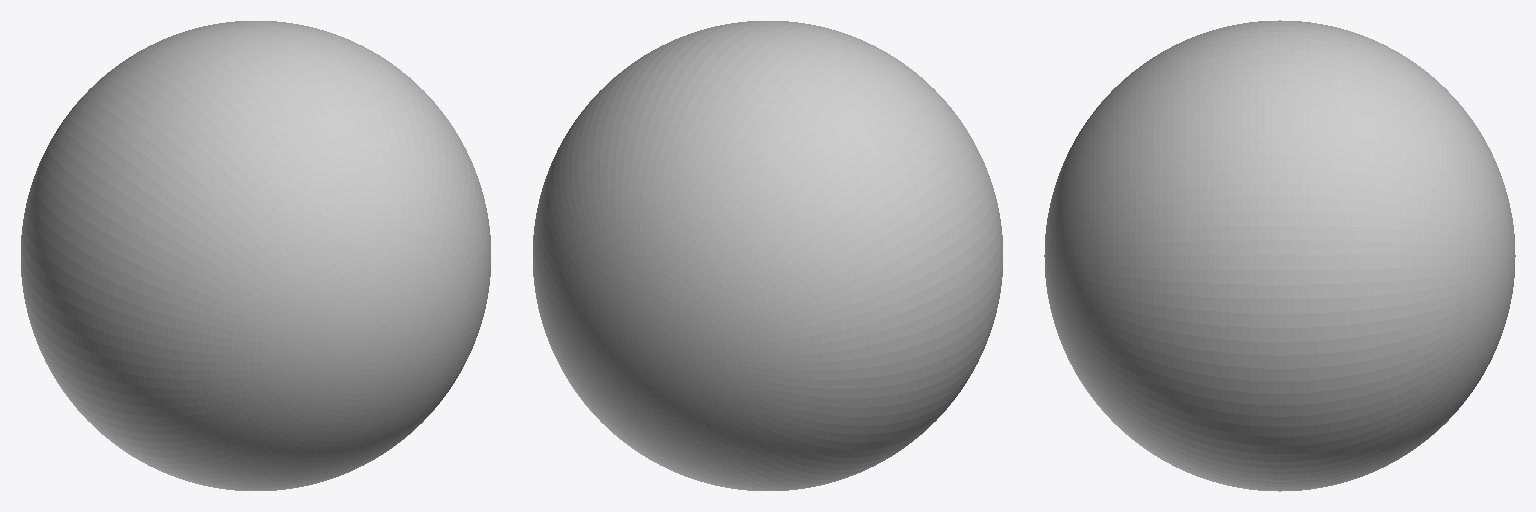
The model's file is Uranus.obj.
3 views of the same model, side by side, from view 1: azimuth 30°, elevation 25°; view 2: azimuth 150°, elevation 25°; view 3: azimuth 270°, elevation 25° (orthographic).
Parts seen in each view (by area): view 1: node_id82; view 2: node_id82; view 3: node_id82.
Boxes of the visible parts, x1=… form: node_id82: x1=21, y1=21, x2=490, y2=490; node_id82: x1=533, y1=21, x2=1002, y2=490; node_id82: x1=1044, y1=20, x2=1515, y2=491.
Size of the model in its own units: 0.0502 by 0.0502 by 0.0502.